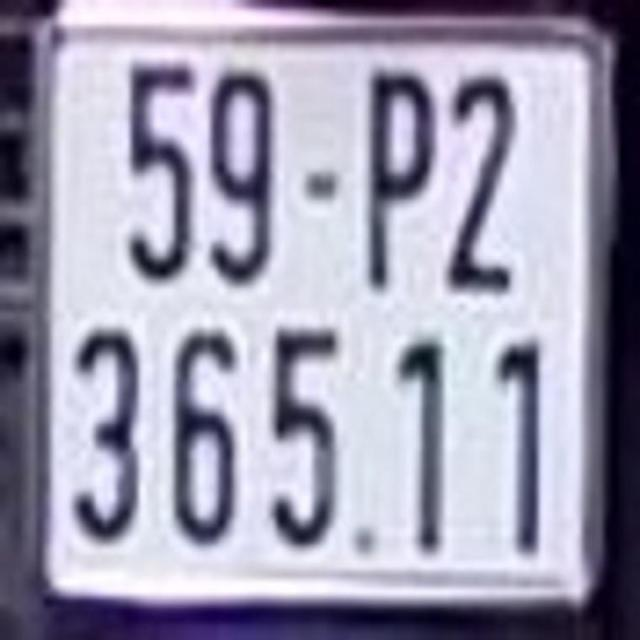1: (499, 333, 544, 550), (404, 340, 446, 551)
2: (450, 74, 523, 288)
3: (73, 328, 147, 539)
5: (272, 330, 340, 540), (130, 60, 193, 278)
6: (171, 328, 232, 543)
9: (208, 70, 274, 282)
P: (366, 73, 438, 290)
